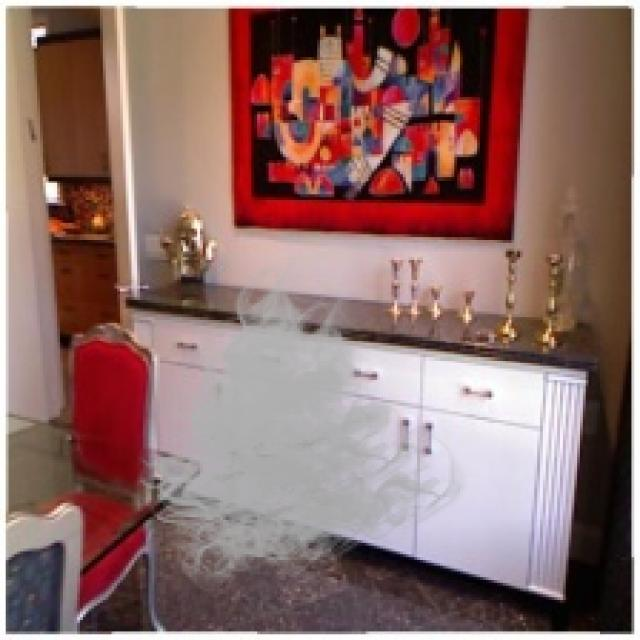smoke: (126, 257, 468, 600)
